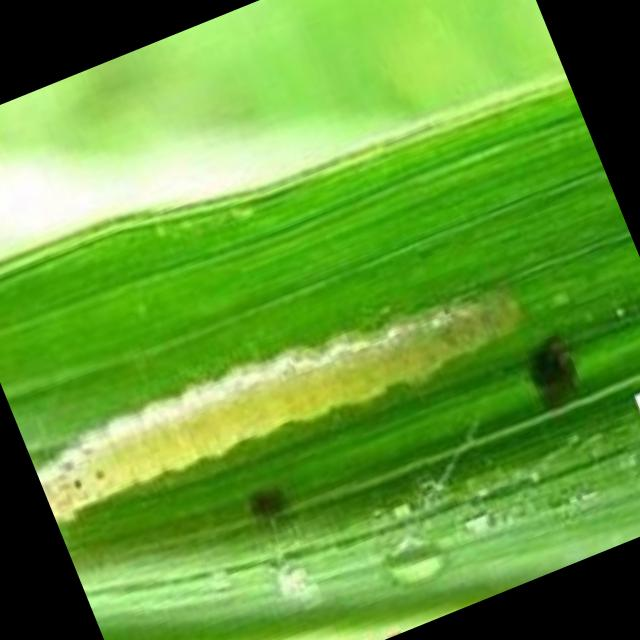leaf-folder: (14, 222, 554, 552)
